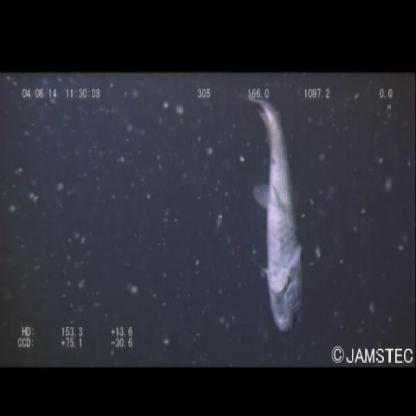Bio: (240, 87, 307, 336)
